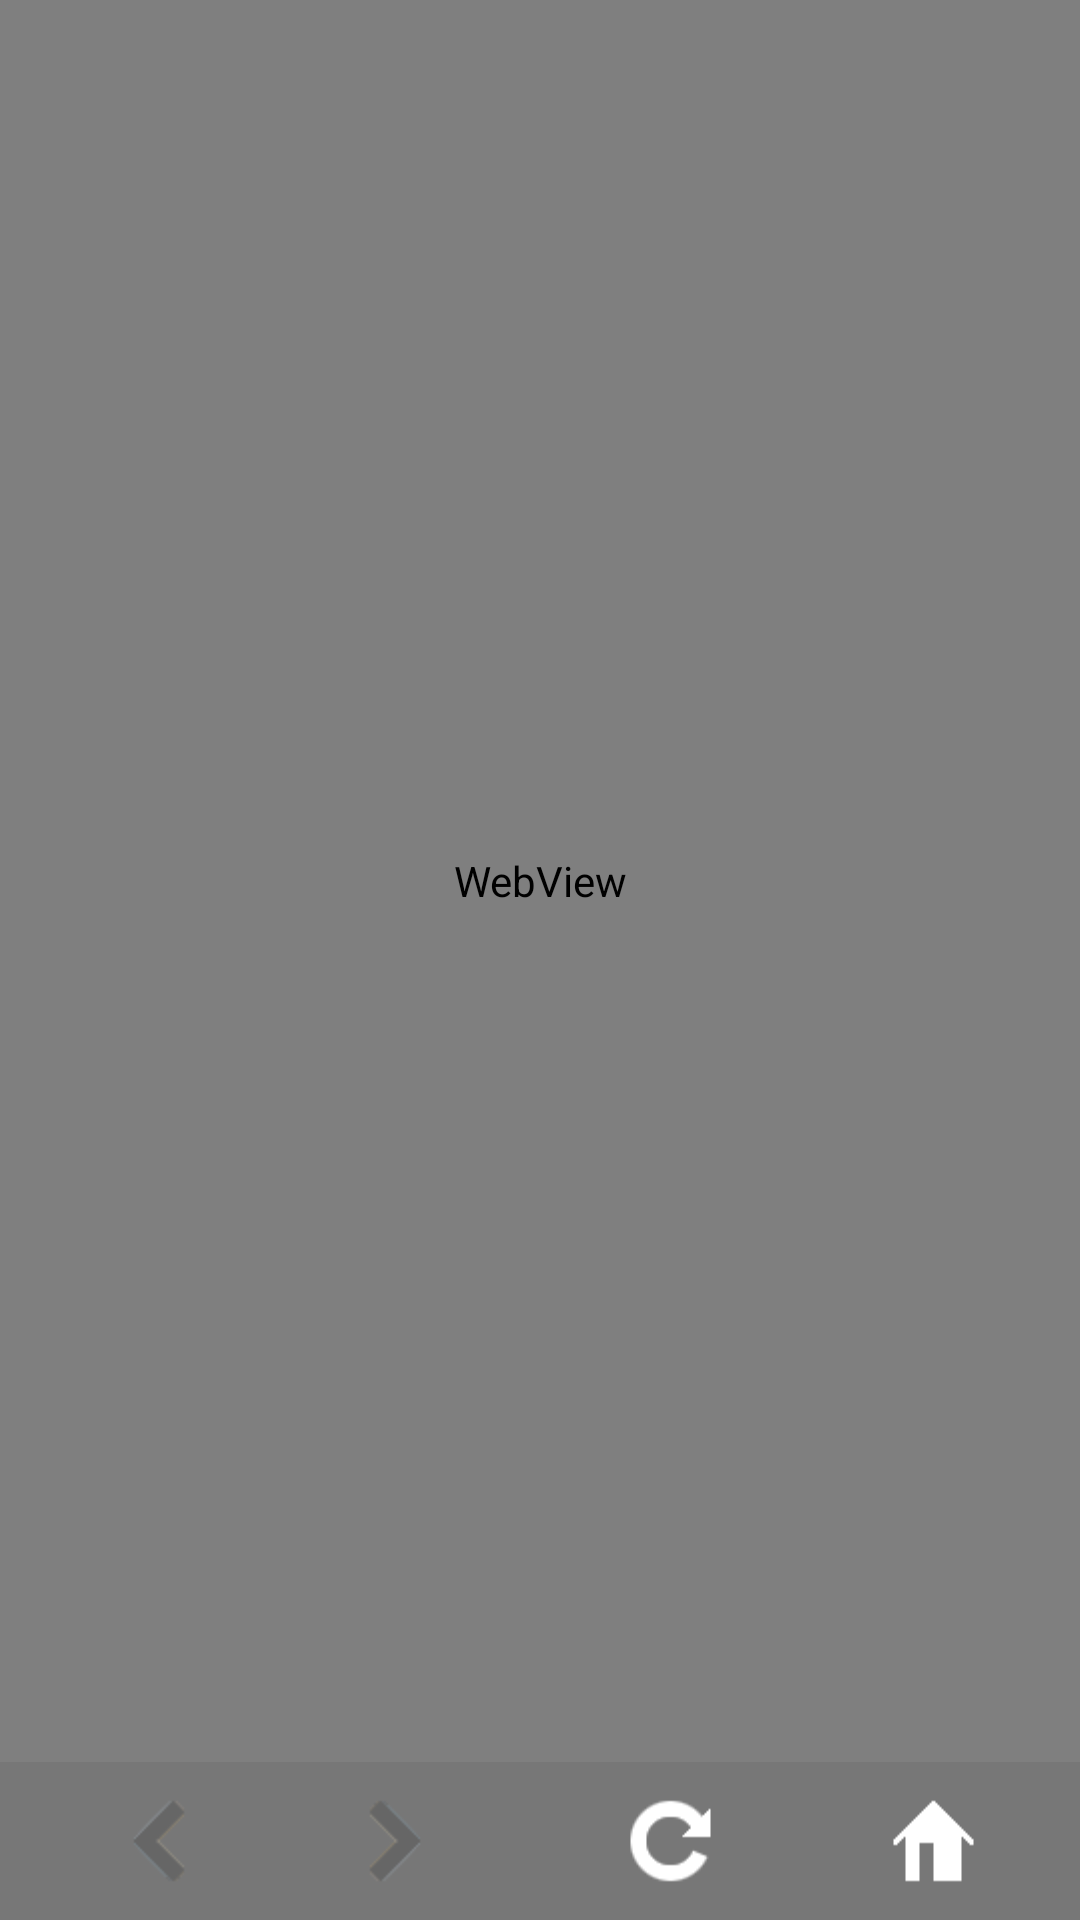

Locate icon controls on the screen. Image size 1080×1920, boxes as (x1, y1, x2, y2).
web home: (893, 1800, 974, 1882)
web refresh: (630, 1800, 711, 1882)
